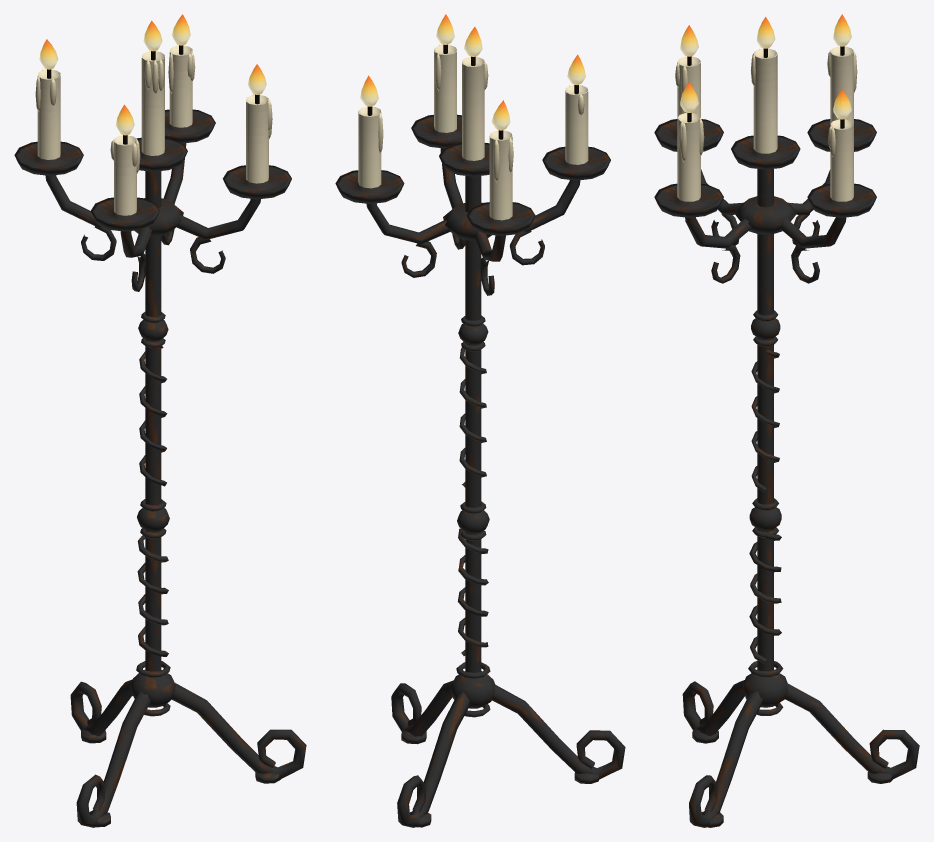
Rendered from prop_candelabra.glb.
The picture shows the model from 3 angles, left to right: view 1: azimuth 30°, elevation 25°; view 2: azimuth 150°, elevation 25°; view 3: azimuth 270°, elevation 25°; orthographic projection.
Visible parts, largest first — view 1: prop; view 2: prop; view 3: prop.
Part boxes in pixels (x1,y1,x2,y2): prop: (14,14,306,827); prop: (335,14,625,827); prop: (654,14,919,827).
Bounding box in the file's own units: 0.3836 × 1.21 × 0.3802.
Materials: 4 (3 with a texture image).
